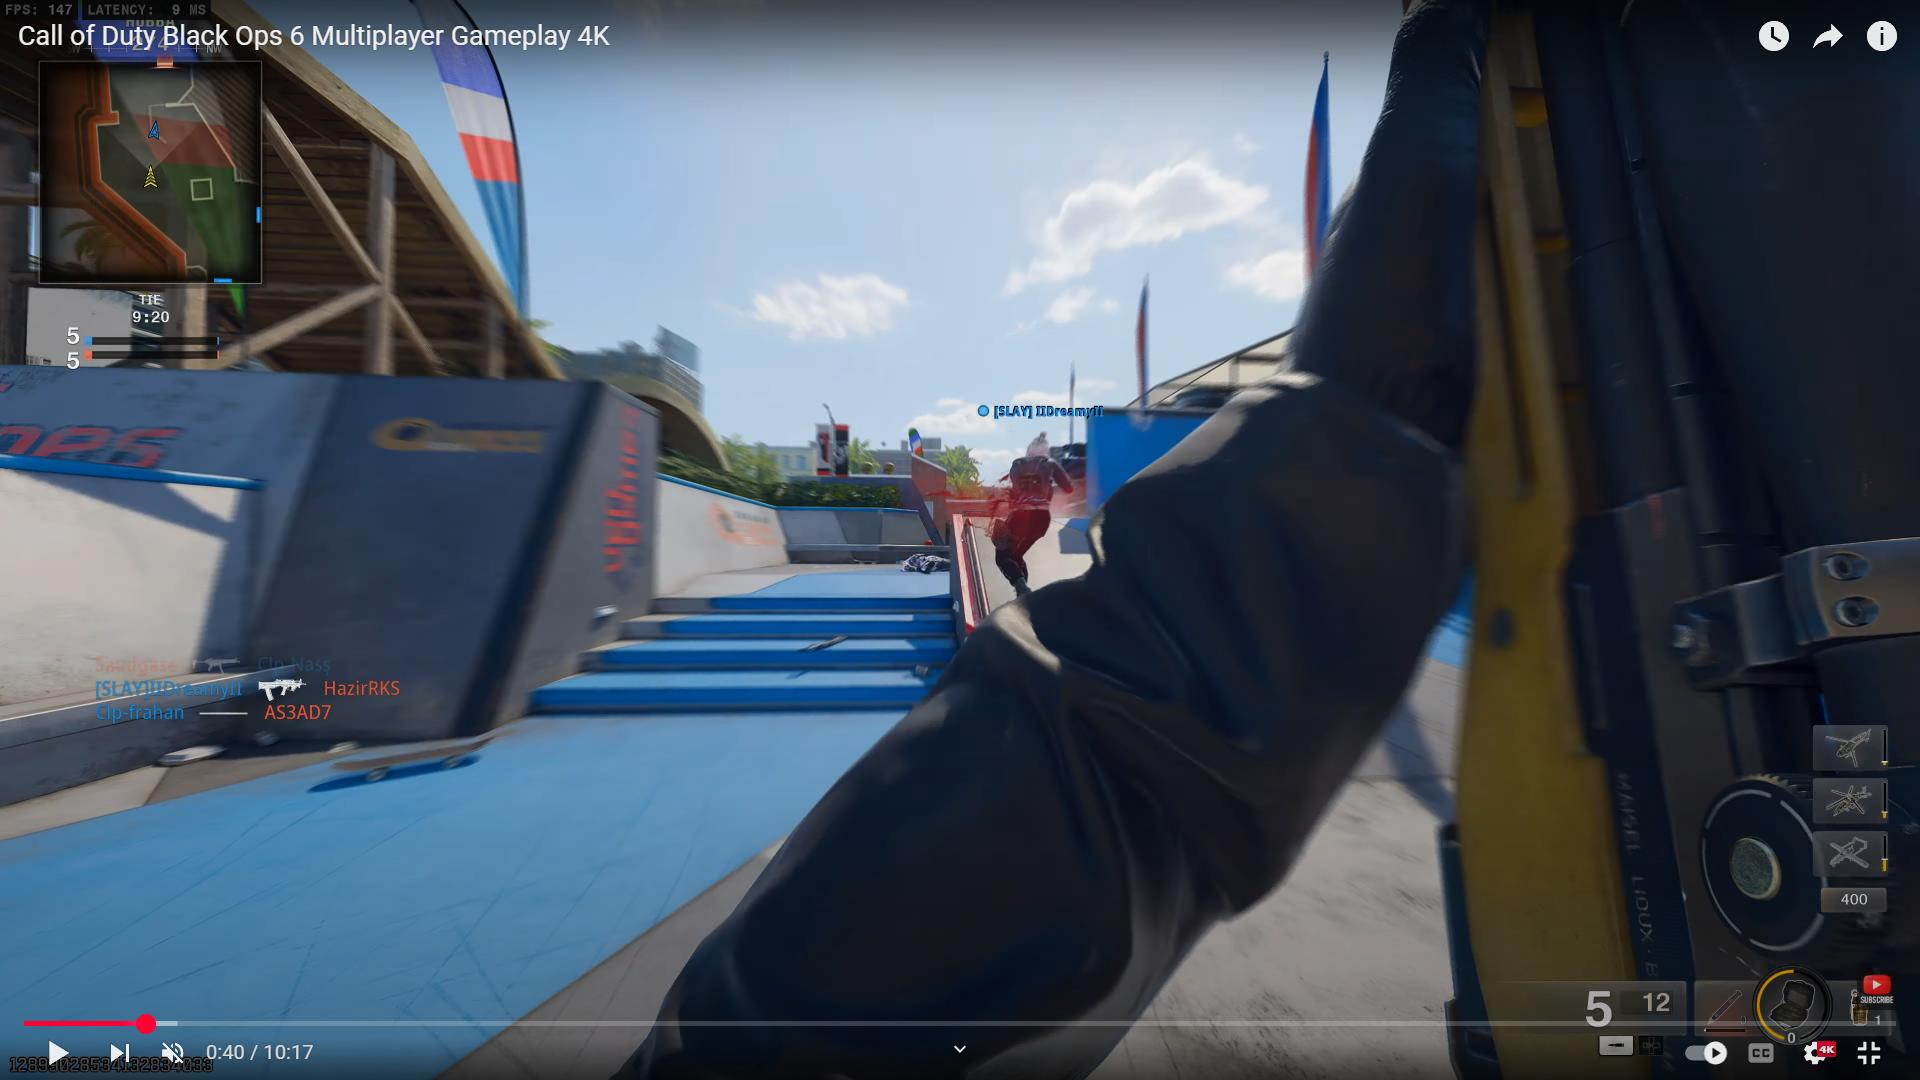Enemy: (990, 429, 1068, 566)
